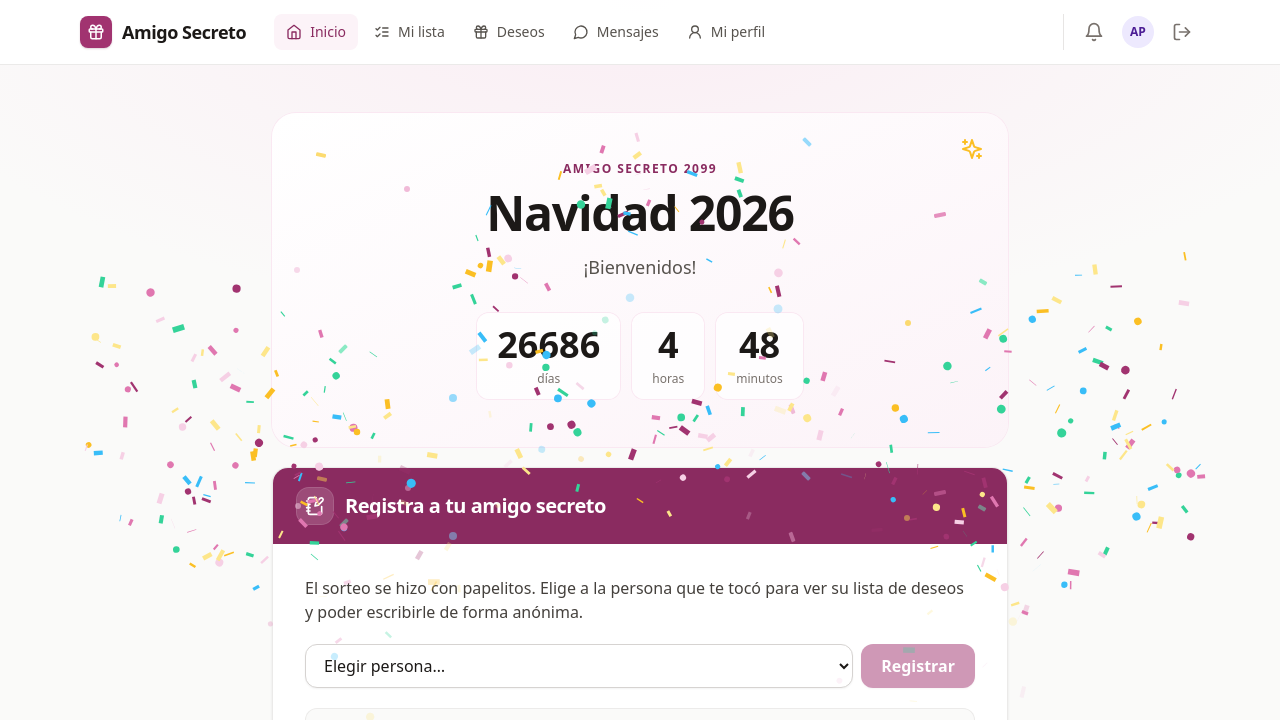
Test: HomePage › sorteo con papelitos › si la persona ya está registrada lo explica sin decir por quién
Select "Luis Gómez" in the dropdown named "Persona de tu papelito" at {"x": 579, "y": 666}, box [305, 644, 853, 688]
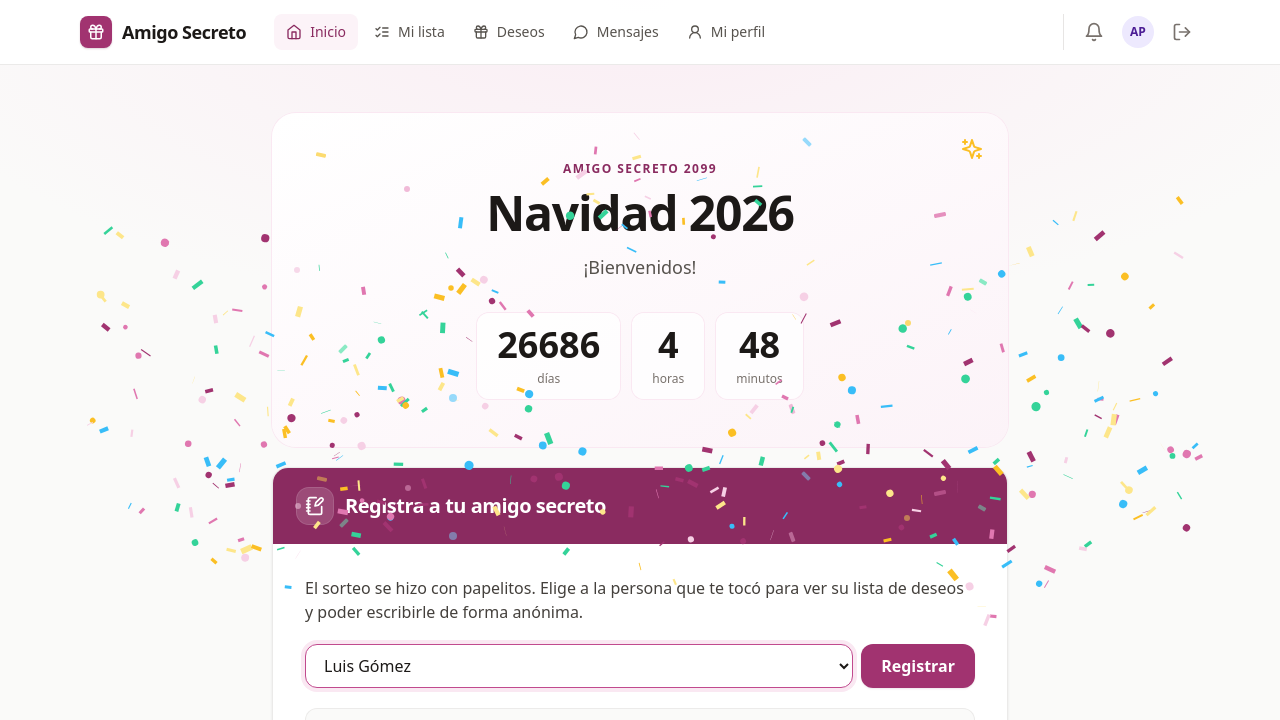
Click the button "Registrar" at {"x": 918, "y": 666}, box [861, 644, 975, 688]
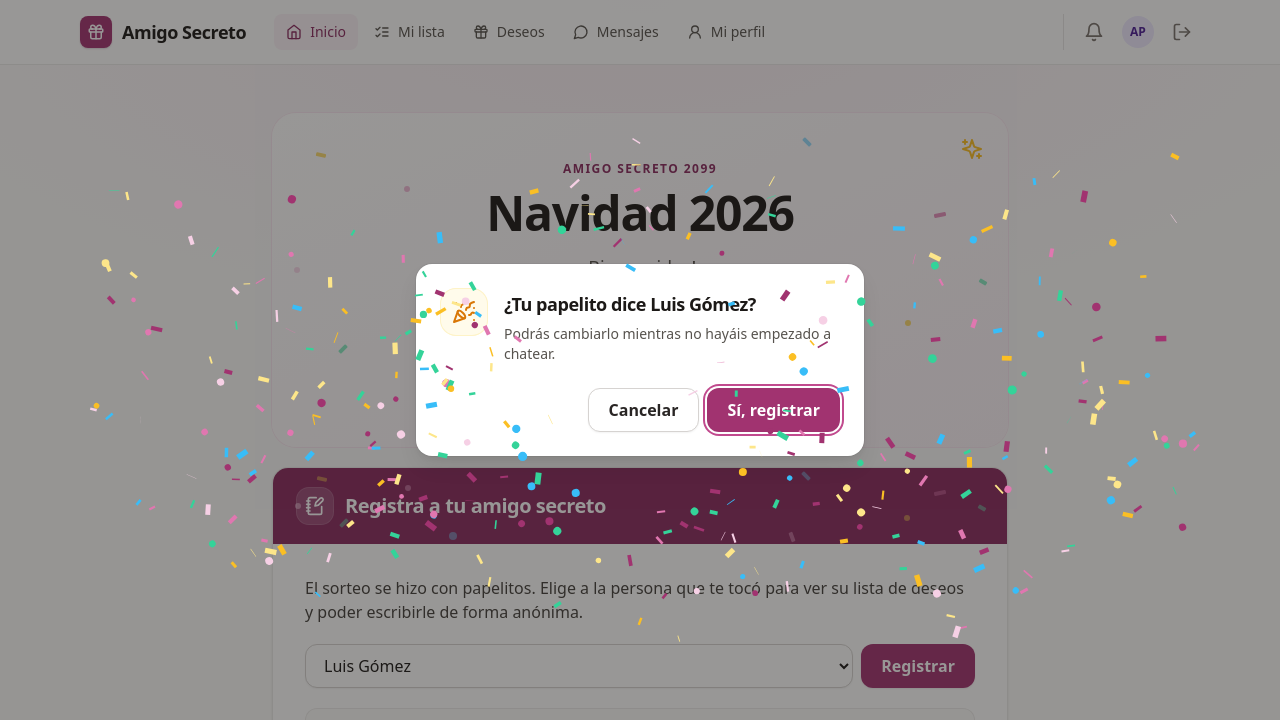
Click the button "Sí, registrar" at {"x": 774, "y": 410}, box [707, 388, 840, 432]
(page scrolled)
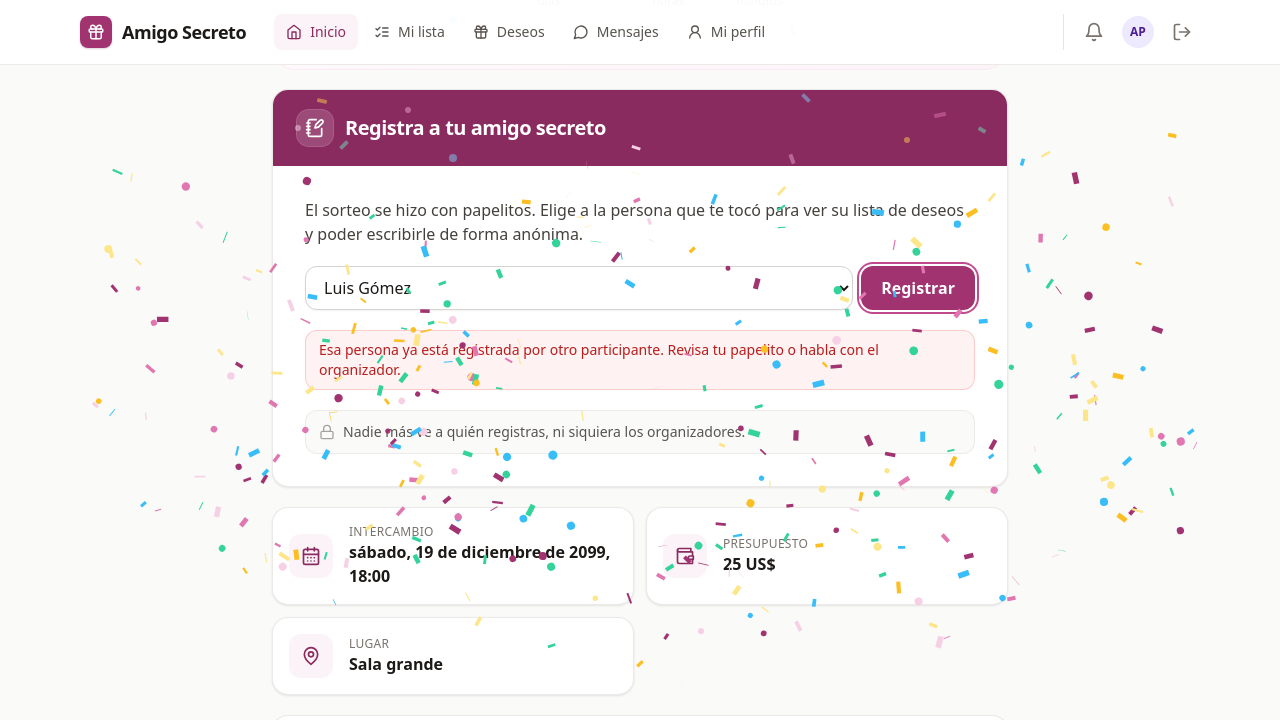
Expected: the message shows "Esa persona ya está registrada por otro participante", [319, 340, 879, 379]
